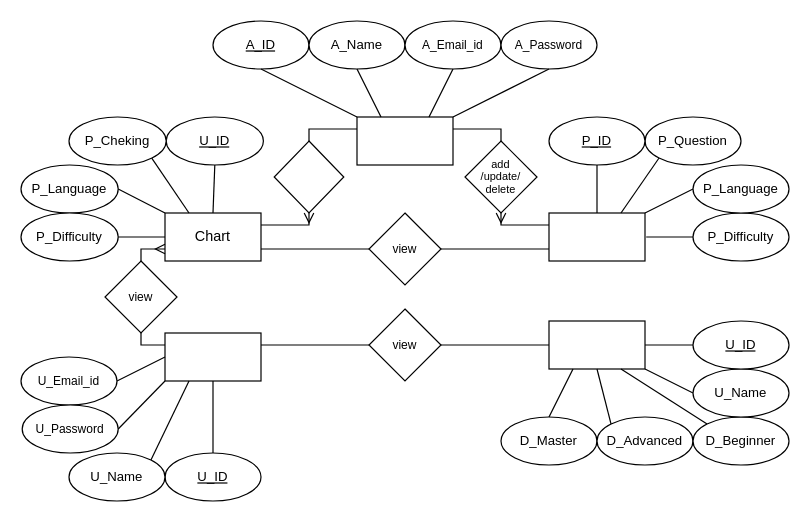
Some shapes in this 810 by 522 pixel diagram are drawn without their labels. The shapes that lost their labels are listed below. From the top down, each one's box as (x1, y1, x2, y2) in pixels, then its label:
(356, 116, 453, 165): Admin
(273, 140, 344, 213): Update
(548, 212, 645, 261): Programming_Q
(164, 332, 261, 381): User
(548, 320, 645, 369): Ranking
